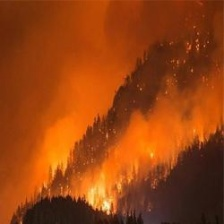fire: (26, 132, 185, 216)
